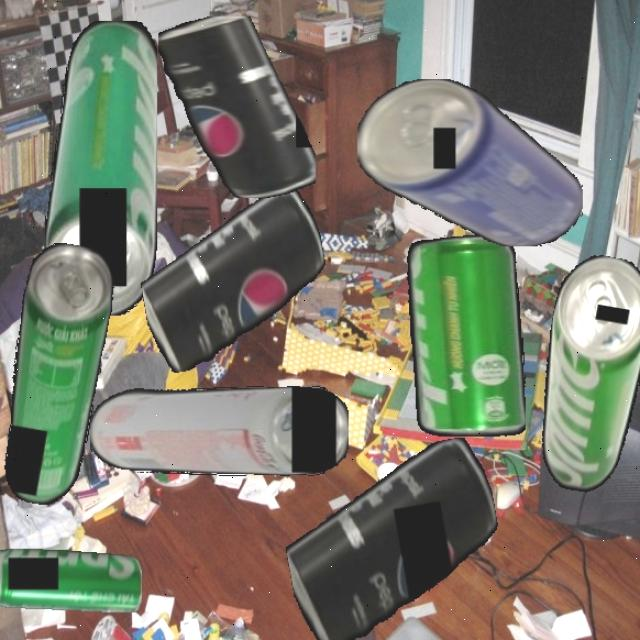debris: (272, 434, 514, 640), (130, 185, 338, 375), (357, 78, 583, 246), (44, 19, 157, 316), (0, 239, 121, 510), (524, 249, 640, 499), (157, 16, 316, 198), (406, 236, 526, 437), (89, 386, 349, 476), (0, 548, 142, 612)
